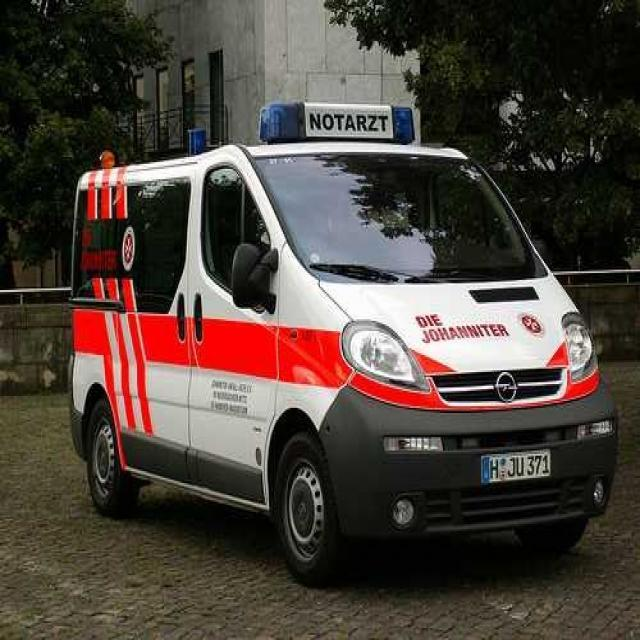emergency-vehicle: (64, 82, 626, 582)
